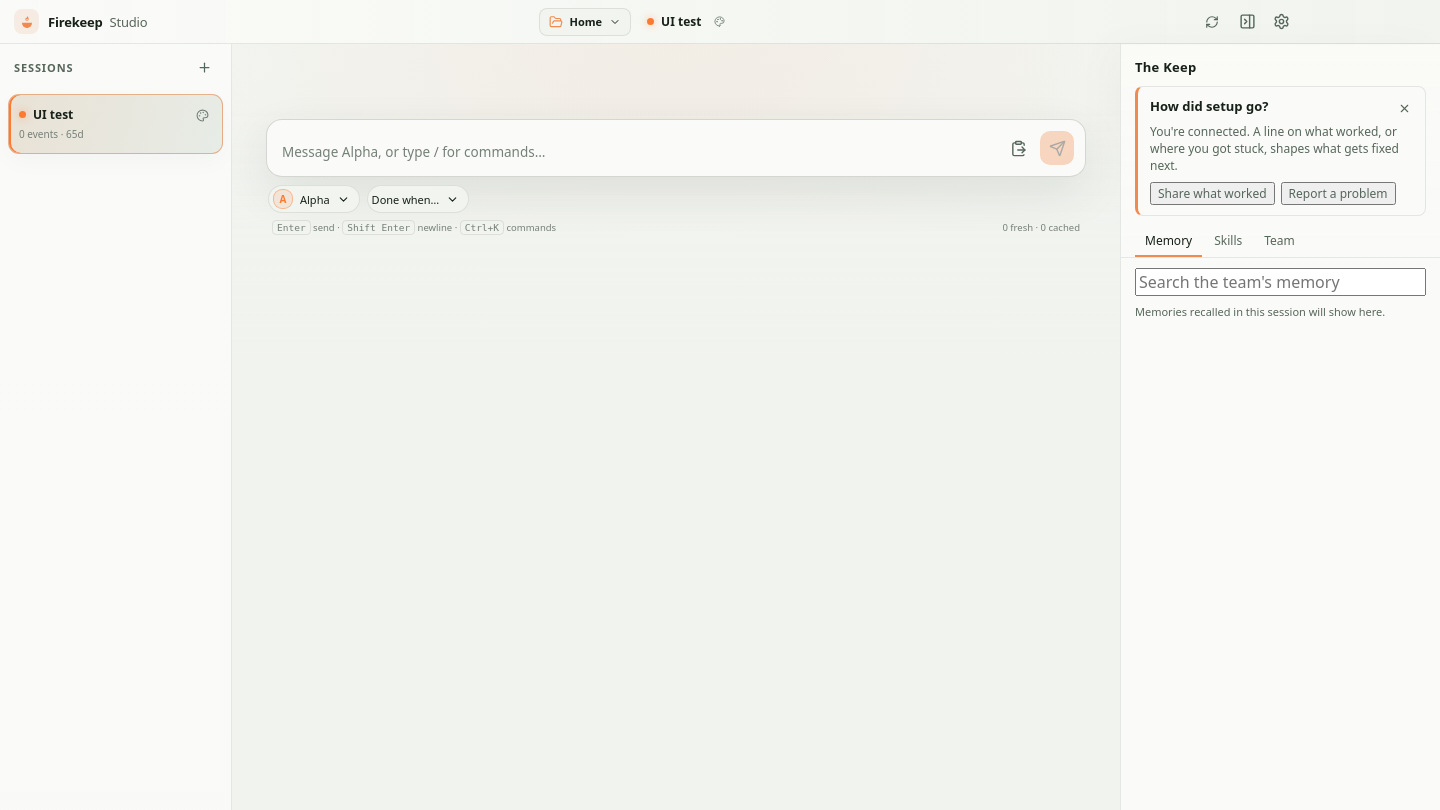
it: Firekeep Studio renderer › invites setup feedback once the Keep first connects, and retires the invite when answered
Click the button "Share what worked": click(1212, 194) [1150,182,1275,205]
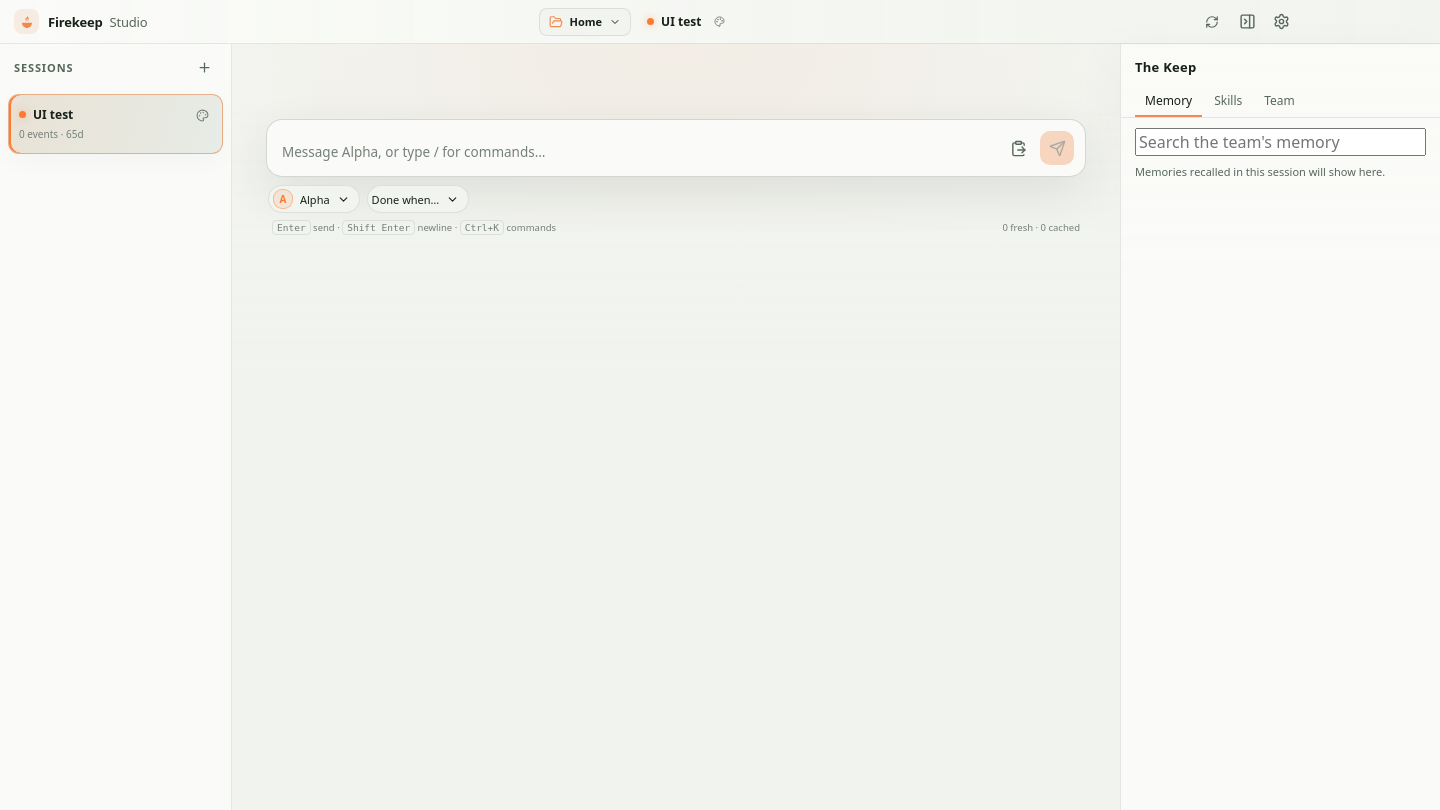
Expected: the heading "How did setup go?" is gone
